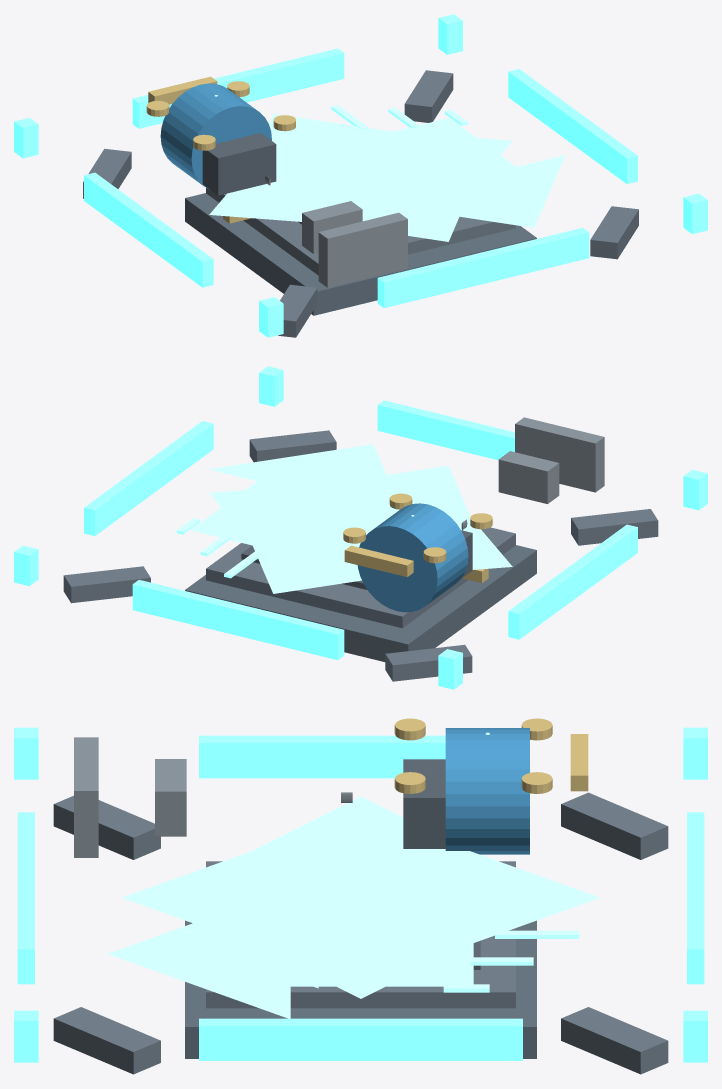
File: KnockTile_Piston.fbx
3 views of the same model, one above another, from view 1: azimuth 30°, elevation 25°; view 2: azimuth 150°, elevation 25°; view 3: azimuth 270°, elevation 25° (orthographic). The views are drawn at different scales.
Parts seen in each view (by area): view 1: TileBase_Dark, Flow_East, Flow_North, Rail_South, PistonMotor_Cylinder, Flow_West, KnockArrow_Cyan, PistonImpactPlate, Rail_West, Rail_East, Rail_North, PistonHousing_Left (+12 smaller); view 2: TileBase_Dark, Flow_South, PistonMotor_Cylinder, Rail_North, KnockArrow_Cyan, TileTopPanel_Dark, Flow_East, Rail_West, Rail_East, Rail_South, PistonImpactPlate, Flow_North (+11 smaller); view 3: Flow_East, Flow_South, Rail_East, Flow_North, KnockArrow_Cyan, PistonMotor_Cylinder, Rail_West, TileTopPanel_Dark, TileBase_Dark, Flow_West, BeveledCorner_NE, BeveledCorner_NW (+17 smaller).
Part boxes in pixels (bbox=[...]): TileBase_Dark: bbox=[185, 193, 536, 315]; Flow_East: bbox=[263, 127, 512, 212]; Flow_North: bbox=[269, 113, 440, 221]; Rail_South: bbox=[377, 228, 589, 307]; PistonMotor_Cylinder: bbox=[160, 83, 271, 189]; Flow_West: bbox=[209, 147, 469, 221]; KnockArrow_Cyan: bbox=[394, 118, 565, 227]; PistonImpactPlate: bbox=[318, 212, 407, 287]; Rail_West: bbox=[84, 172, 213, 287]; Rail_East: bbox=[508, 69, 637, 183]; Rail_North: bbox=[132, 48, 344, 128]; PistonHousing_Left: bbox=[202, 133, 276, 195]; TileBase_Dark: bbox=[185, 545, 536, 661]; Flow_South: bbox=[279, 465, 479, 560]; PistonMotor_Cylinder: bbox=[357, 503, 468, 612]; Rail_North: bbox=[132, 580, 344, 659]; KnockArrow_Cyan: bbox=[190, 444, 386, 545]; TileTopPanel_Dark: bbox=[206, 527, 515, 628]; Flow_East: bbox=[209, 479, 469, 562]; Rail_West: bbox=[508, 524, 637, 639]; Rail_East: bbox=[84, 421, 213, 535]; Rail_South: bbox=[377, 400, 514, 460]; PistonImpactPlate: bbox=[515, 417, 604, 492]; Flow_North: bbox=[251, 484, 397, 593]; Flow_East: bbox=[209, 844, 515, 998]; Flow_South: bbox=[122, 832, 482, 961]; Rail_East: bbox=[199, 1018, 522, 1060]; Flow_North: bbox=[234, 849, 599, 943]; KnockArrow_Cyan: bbox=[108, 923, 473, 1018]; PistonMotor_Cylinder: bbox=[445, 728, 529, 854]; Rail_West: bbox=[199, 735, 445, 778]; TileTopPanel_Dark: bbox=[206, 861, 515, 1008]; TileBase_Dark: bbox=[185, 920, 536, 1058]; Flow_West: bbox=[206, 796, 489, 937]; BeveledCorner_NE: bbox=[561, 1007, 668, 1074]; BeveledCorner_NW: bbox=[561, 792, 668, 859].
Bounding box in the file's own units: 98.5 × 29.06 × 98.5.
